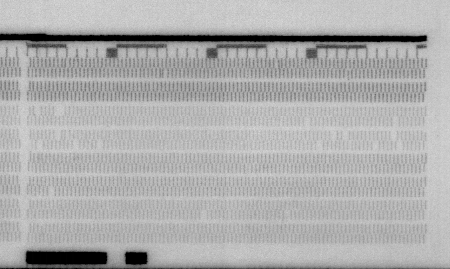Broken hole: (388, 130, 405, 152), (328, 130, 352, 142), (51, 104, 67, 118), (313, 139, 327, 153), (69, 137, 82, 152), (34, 140, 46, 153), (391, 115, 401, 130), (94, 139, 106, 151), (282, 209, 293, 221), (32, 103, 43, 115), (303, 116, 313, 129), (198, 210, 209, 221), (48, 187, 58, 198), (52, 129, 62, 140), (371, 142, 380, 151)
Oblique printing: (342, 68, 353, 82), (272, 58, 284, 69), (158, 68, 169, 80)
